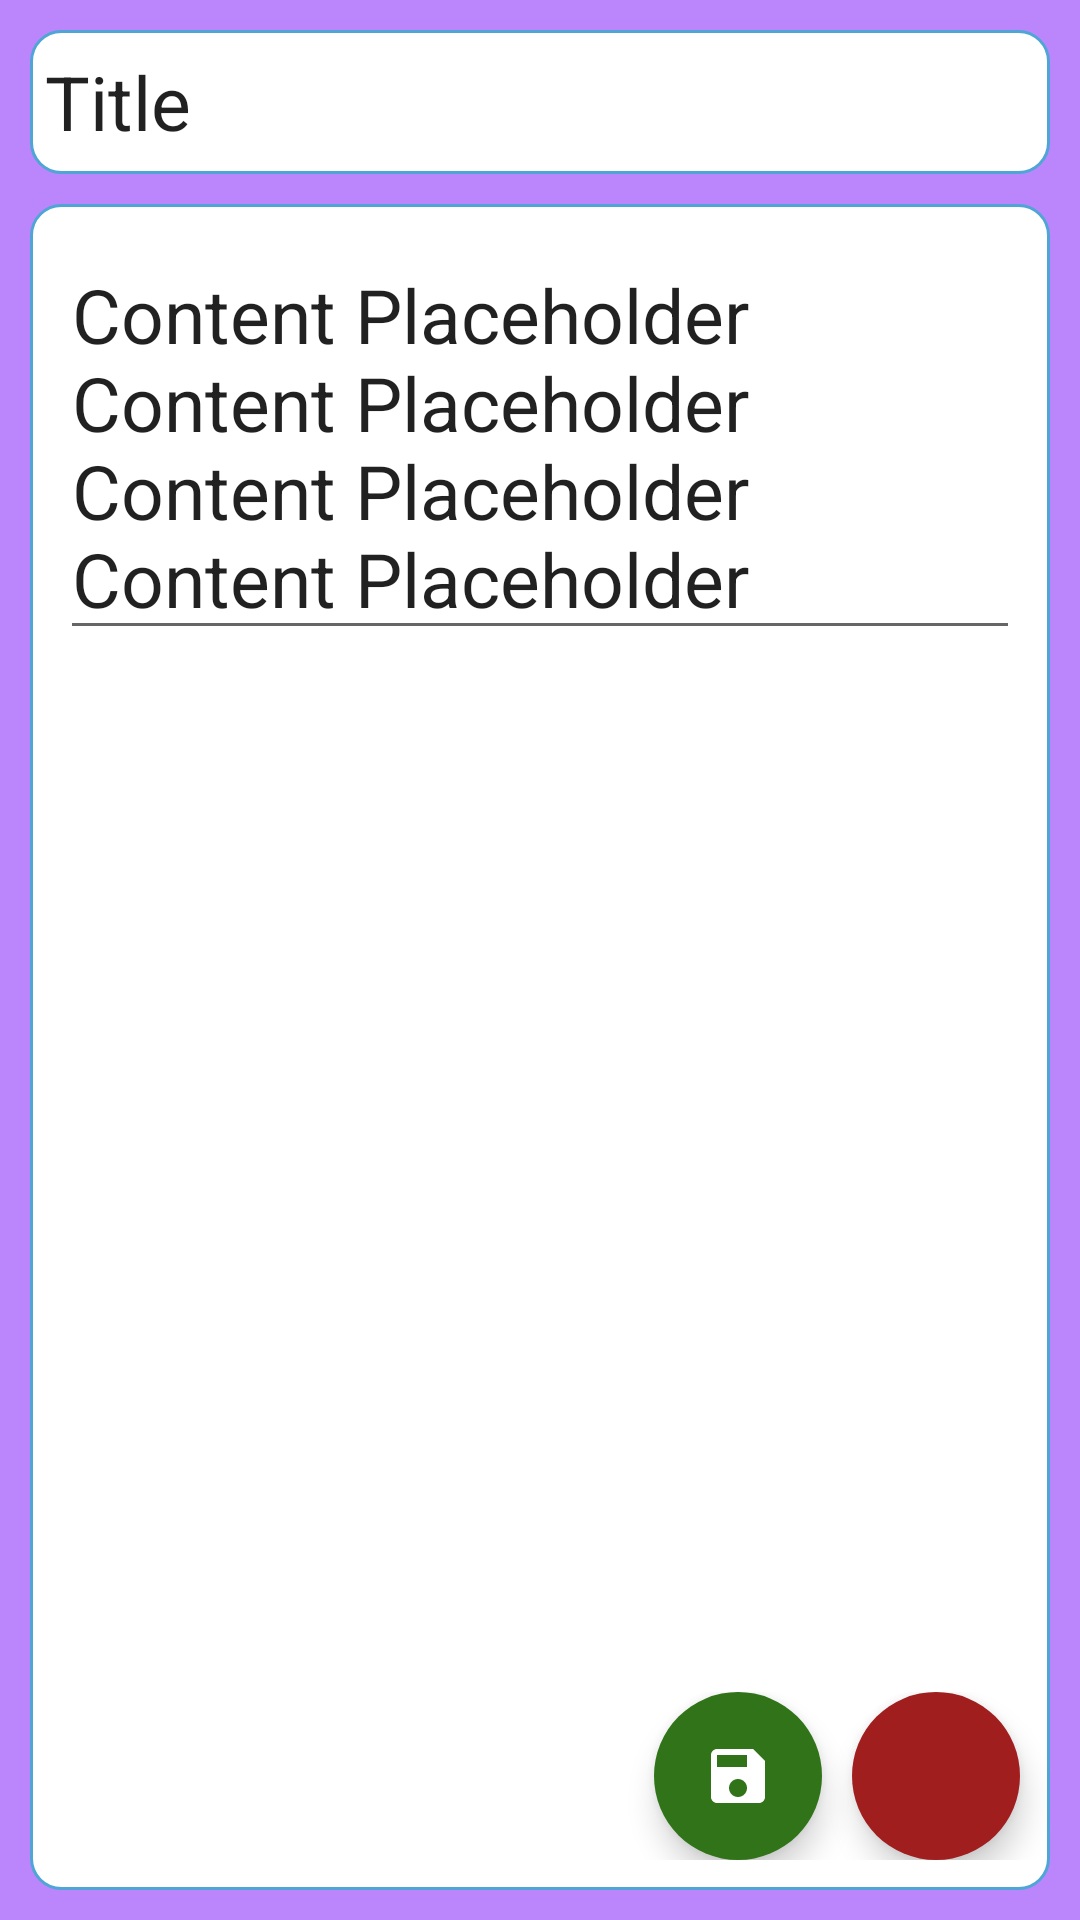

Where icons sit on this 1080×1920 app screen, as (x1, y1, x2, y2):
Save FAB: (654, 1692, 822, 1860)
